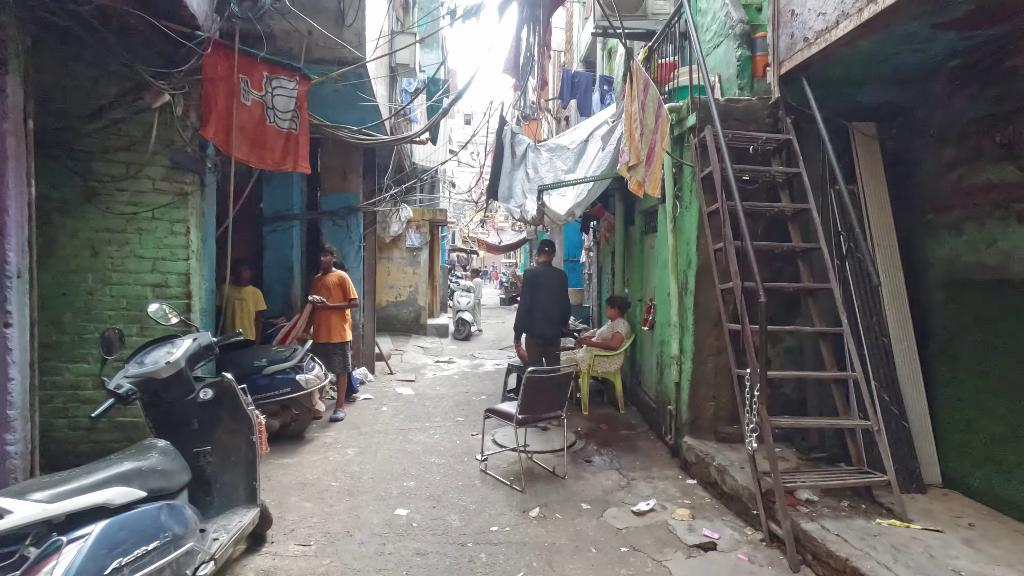garbage: (627, 495, 664, 516), (668, 504, 699, 527), (700, 520, 725, 545)
